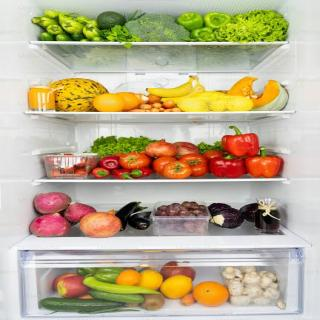Juice: (23, 75, 58, 111)
fruit: (192, 280, 228, 308), (92, 92, 128, 111)
